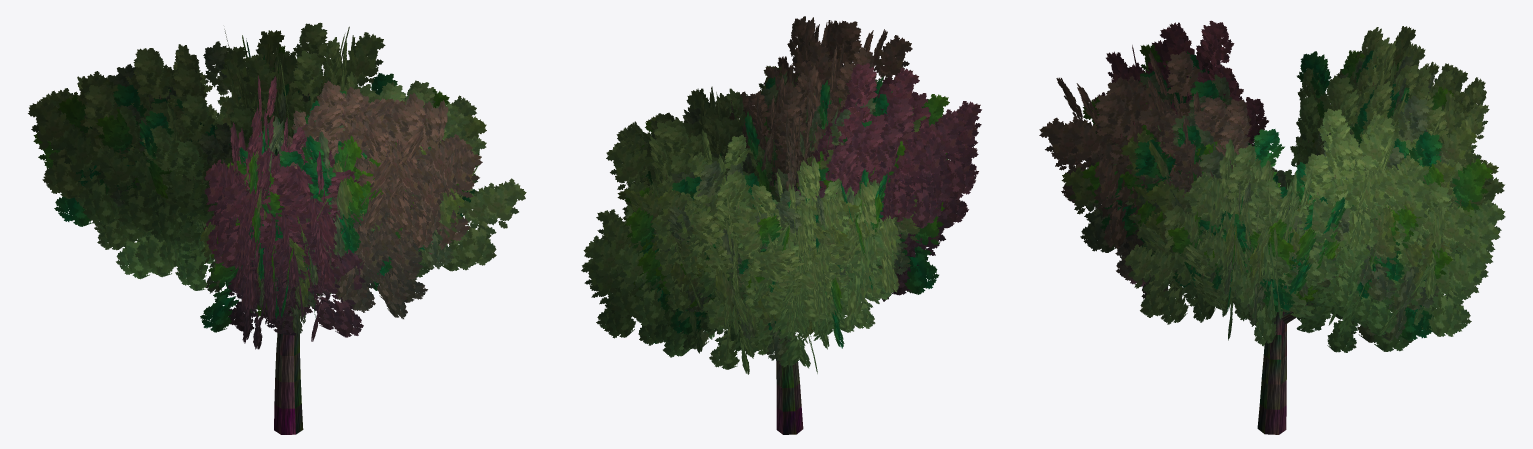
The model's file is nat_oak_b_LOD1.glb.
The picture shows the model from 3 angles, left to right: view 1: azimuth 30°, elevation 25°; view 2: azimuth 150°, elevation 25°; view 3: azimuth 270°, elevation 25°; orthographic projection. The views are drawn at different scales.
Parts seen in each view (by area): view 1: nat_oak_b_LOD1; view 2: nat_oak_b_LOD1; view 3: nat_oak_b_LOD1.
Part boxes in pixels (x1,y1,x2,y2): nat_oak_b_LOD1: (28, 22, 526, 434); nat_oak_b_LOD1: (581, 16, 981, 434); nat_oak_b_LOD1: (1039, 20, 1505, 434).
Size of the model in its own units: 7.34 by 7.01 by 8.16.
Materials: 2 (2 with a texture image).
